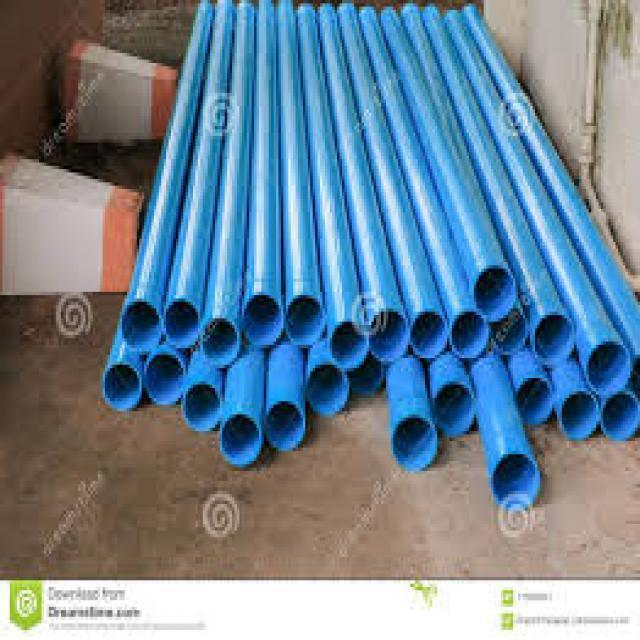pipe: (494, 452, 537, 508), (120, 297, 161, 353), (391, 416, 435, 467), (587, 339, 629, 392), (534, 311, 575, 363), (244, 293, 283, 347), (474, 265, 514, 317), (146, 350, 185, 403), (221, 411, 260, 464), (265, 398, 305, 449), (369, 307, 407, 360), (287, 295, 327, 344), (434, 382, 473, 431), (560, 390, 599, 439), (310, 362, 346, 413), (410, 309, 448, 356), (601, 391, 639, 438), (184, 381, 221, 429), (491, 302, 527, 351), (450, 311, 487, 358), (203, 315, 238, 363), (104, 363, 141, 407), (331, 321, 367, 366), (515, 379, 551, 424), (165, 301, 200, 346), (345, 357, 382, 390)
